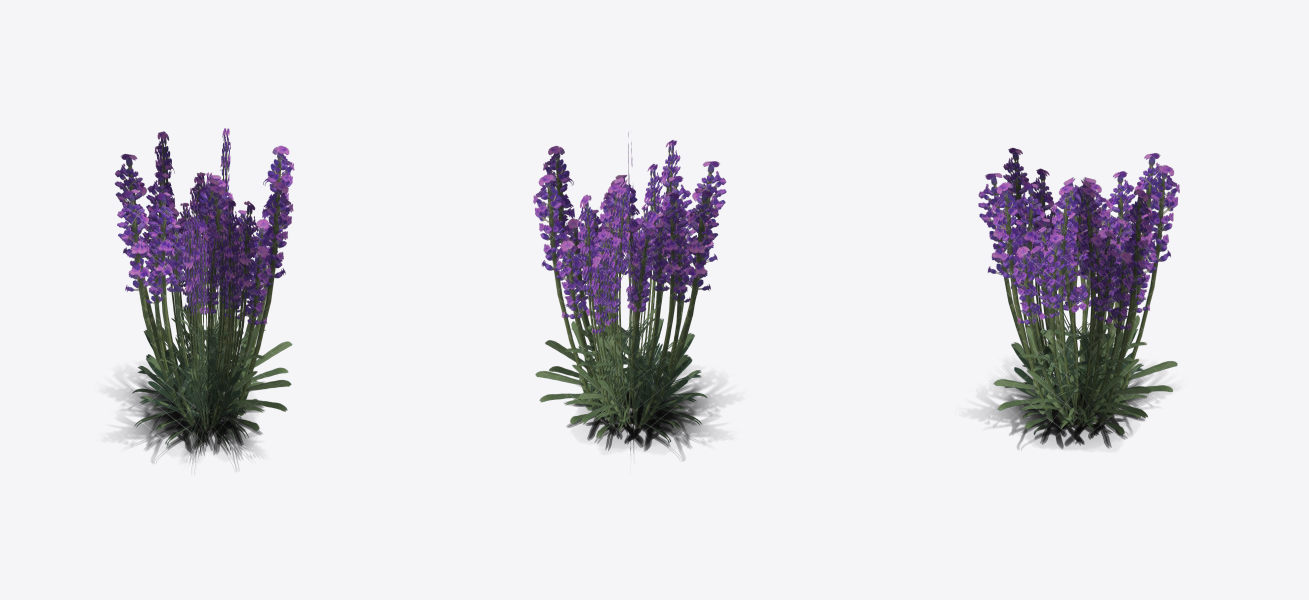
File: lavander.glb
3 renders of one model, left to right at view 1: azimuth 30°, elevation 25°; view 2: azimuth 150°, elevation 25°; view 3: azimuth 270°, elevation 25°, orthographic.
Visible parts, largest first — view 1: Plane.003; view 2: Plane.003; view 3: Plane.003.
Boxes of the visible parts, x1,y1,x2,y2 form: Plane.003: [114, 128, 294, 465]; Plane.003: [533, 132, 726, 460]; Plane.003: [978, 147, 1179, 449].
Bounding box in the file's own units: 2 × 2 × 2.
1 material, 1 textured.
